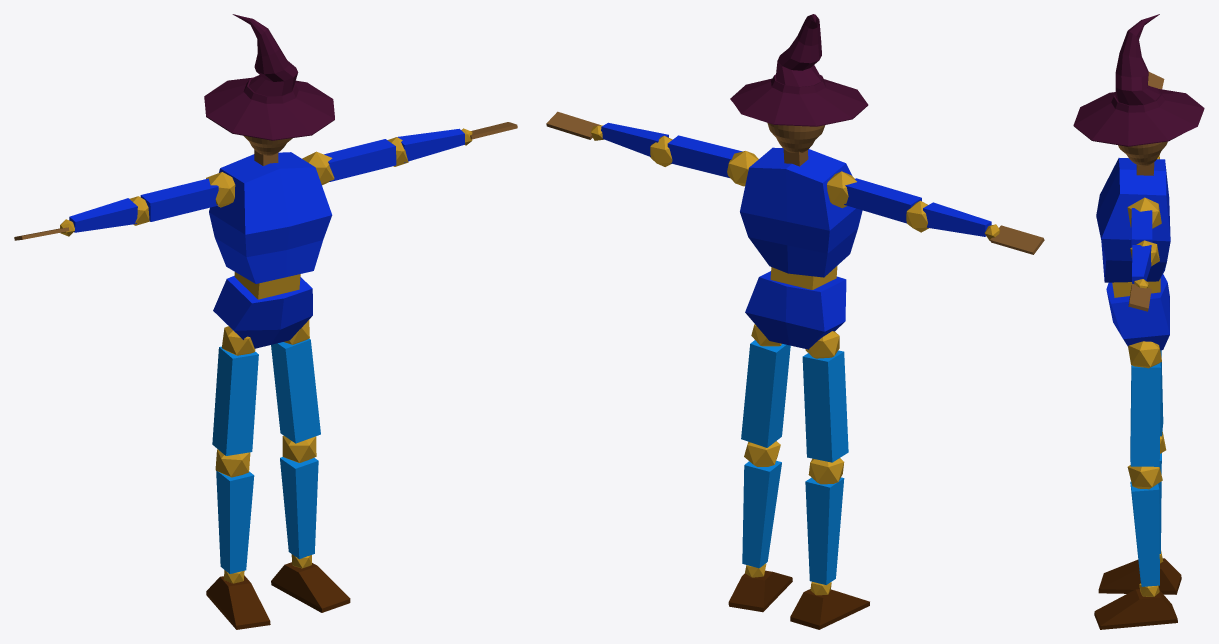
Rendered from Player_model.fbx.
The picture shows the model from 3 angles, left to right: view 1: azimuth 30°, elevation 25°; view 2: azimuth 150°, elevation 25°; view 3: azimuth 270°, elevation 25°; orthographic projection. The views are drawn at different scales.
Parts seen in each view (by area): view 1: Chest, Hat, Pelvis, Leg_Right, Leg_Left, Tibia_Left, Tibia_Right, Foot_Left, Foot_Right, Arm_Right, Arm_Left, Forearm_Right (+4 smaller); view 2: Chest, Hat, Pelvis, Leg_Right, Leg_Left, Tibia_Right, Tibia_Left, Foot_Right, Arm_Right, Arm_Left, Foot_Left, Forearm_Right (+9 smaller); view 3: Hat, Chest, Leg_Left, Pelvis, Tibia_Left, Foot_Left, Foot_Right, Hips_Left, Arm_Left, Head, Knee_Left, Forearm_Left (+8 smaller).
Boxes of the visible parts, box(x1,y1,x2,y2) form: Chest: box(209, 152, 332, 283); Hat: box(204, 14, 334, 140); Pelvis: box(213, 275, 312, 348); Leg_Right: box(212, 346, 258, 455); Leg_Left: box(271, 338, 320, 443); Tibia_Left: box(280, 457, 318, 559); Tibia_Right: box(216, 470, 254, 573); Foot_Left: box(271, 562, 350, 612); Foot_Right: box(206, 575, 270, 629); Arm_Right: box(140, 178, 218, 221); Arm_Left: box(324, 139, 396, 181); Forearm_Right: box(69, 198, 137, 232); Chest: box(740, 147, 862, 277); Hat: box(730, 14, 868, 126); Pelvis: box(745, 271, 846, 349); Leg_Right: box(802, 350, 848, 462); Leg_Left: box(741, 340, 790, 447); Tibia_Right: box(805, 477, 844, 584); Tibia_Left: box(742, 460, 781, 568); Foot_Right: box(790, 589, 869, 629); Arm_Right: box(844, 178, 921, 223); Arm_Left: box(667, 135, 742, 177); Foot_Left: box(728, 570, 792, 612); Forearm_Right: box(923, 202, 991, 236); Hat: box(1073, 14, 1204, 146); Chest: box(1096, 158, 1170, 282); Leg_Left: box(1130, 362, 1160, 466); Pelvis: box(1106, 274, 1169, 350); Tibia_Left: box(1130, 481, 1159, 586); Foot_Left: box(1094, 589, 1177, 629); Foot_Right: box(1098, 558, 1181, 594); Hips_Left: box(1128, 341, 1161, 368); Arm_Left: box(1131, 208, 1152, 257); Head: box(1118, 141, 1167, 166); Knee_Left: box(1127, 465, 1162, 489); Forearm_Left: box(1132, 245, 1151, 283).
Size of the model in its own units: 1093 by 1262 by 260.
